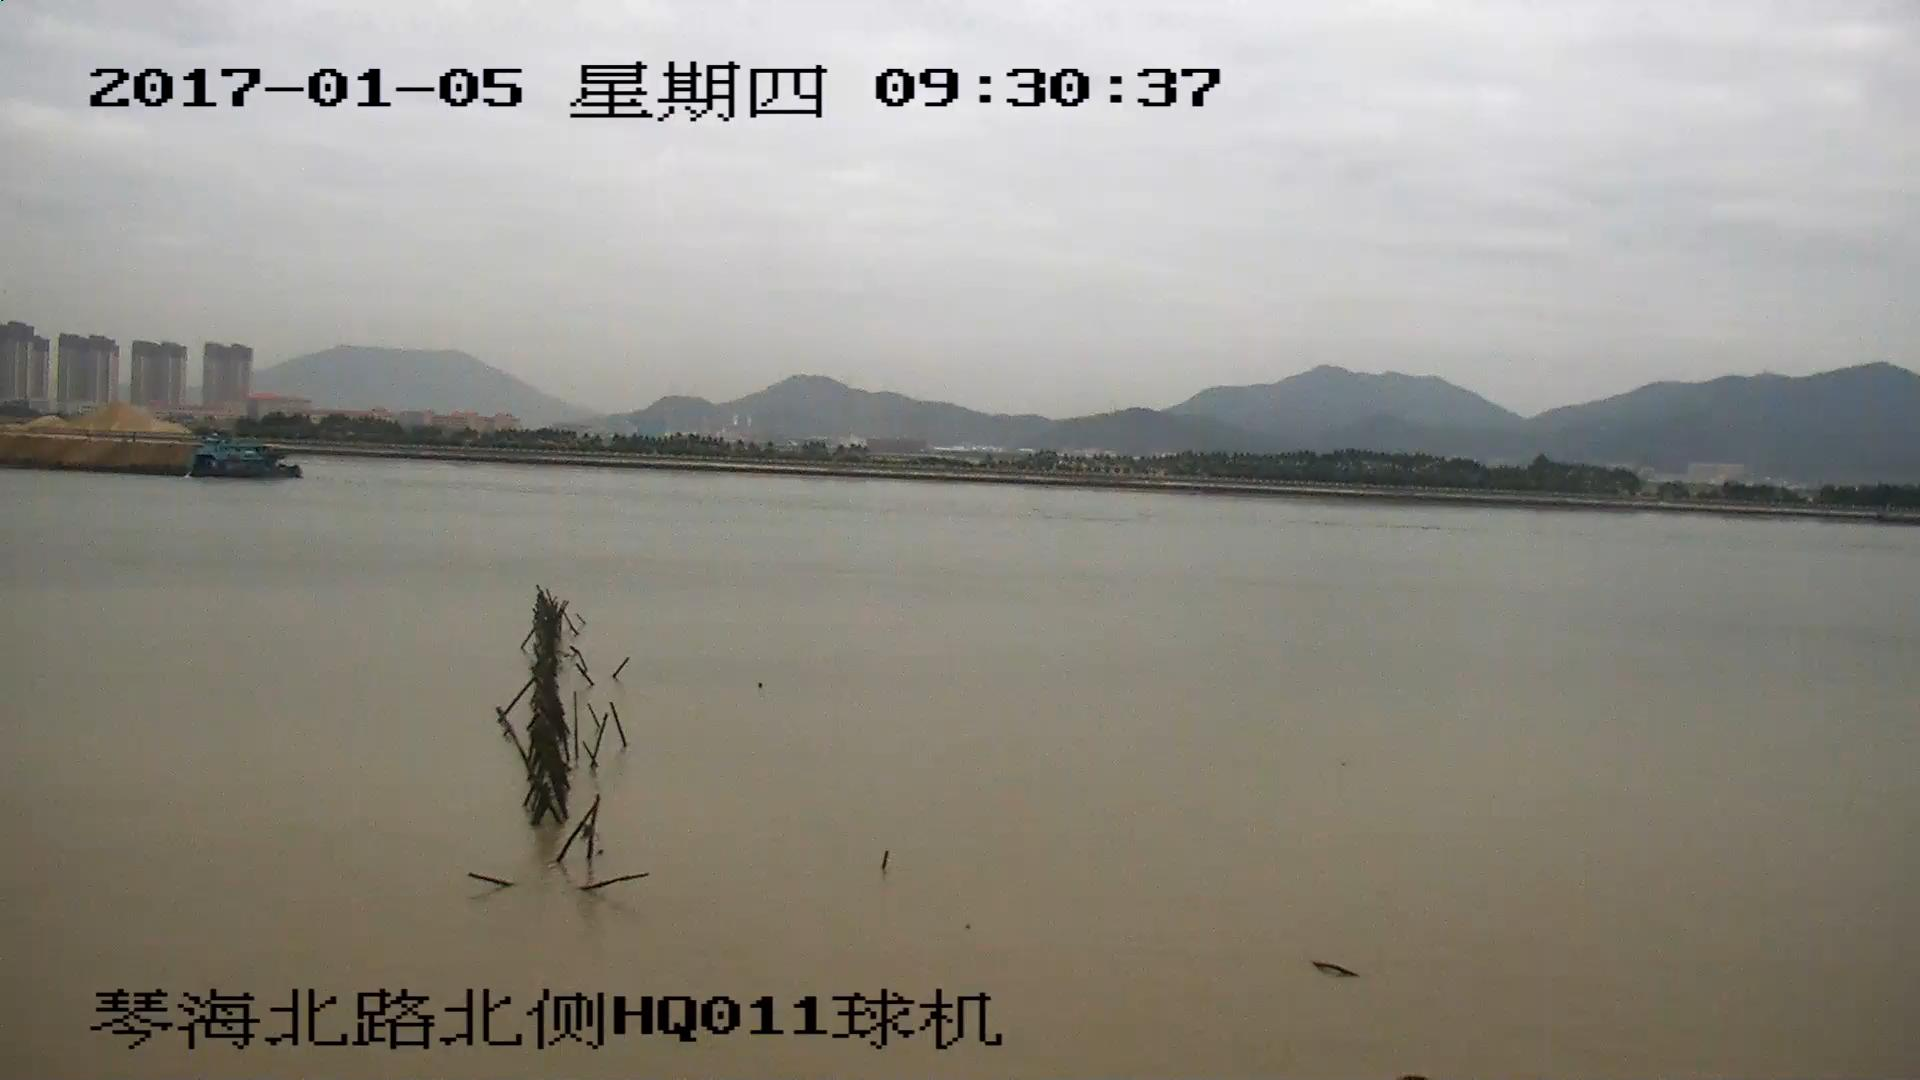ore carrier: (1, 429, 300, 480)
